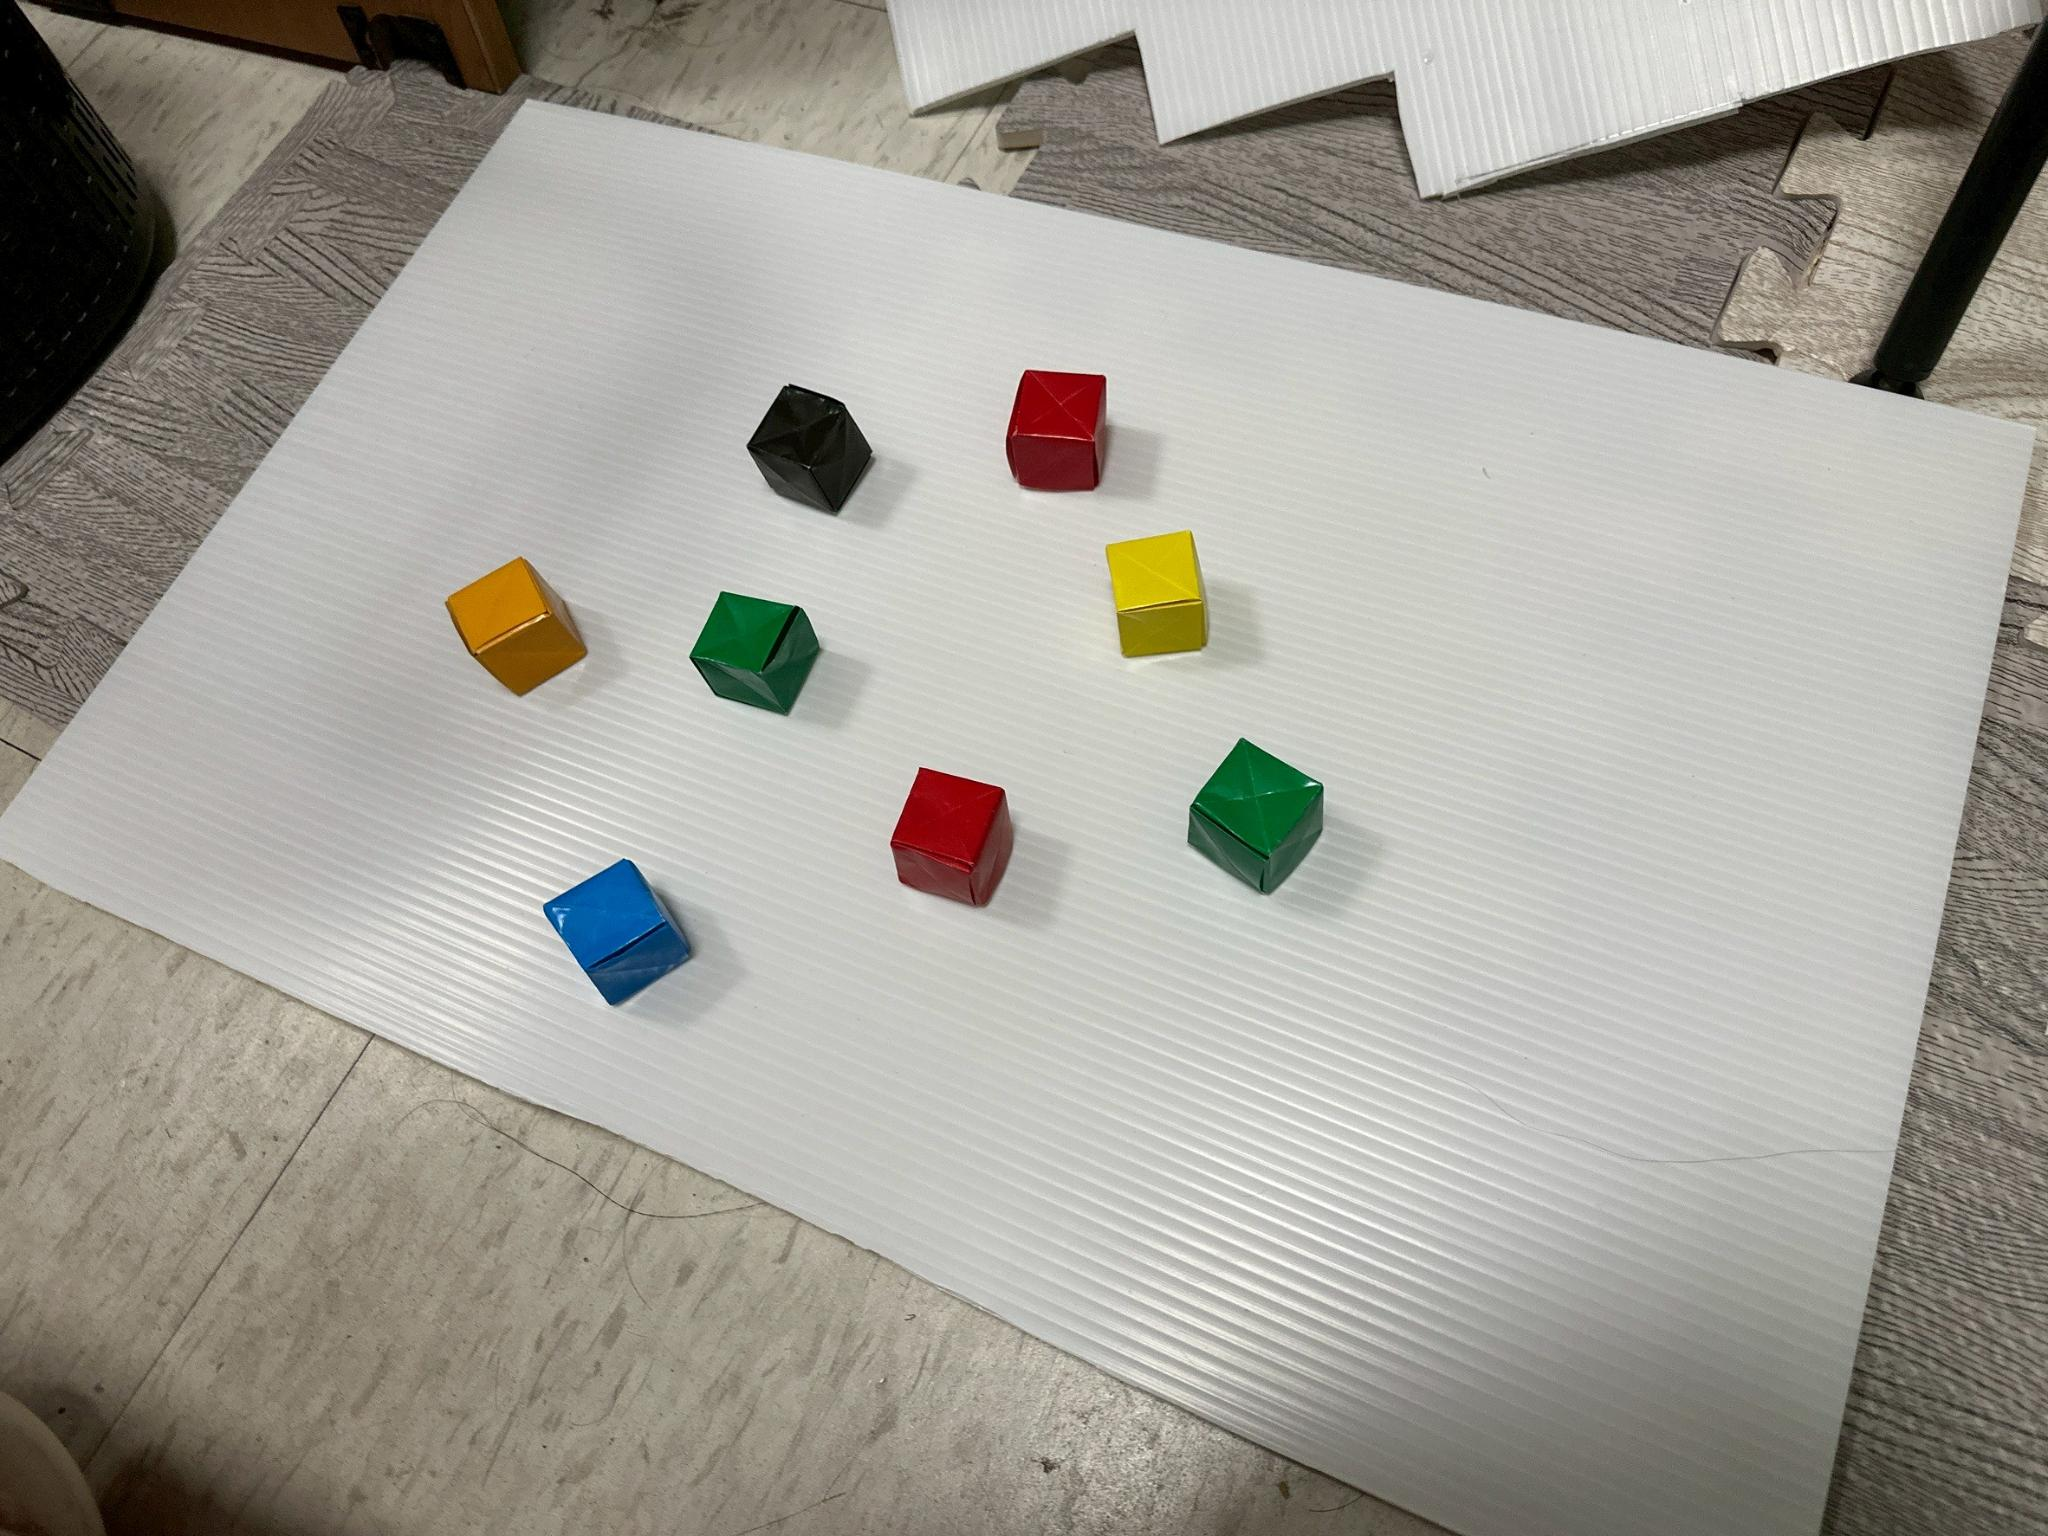cube: (543, 860, 689, 1005), (1188, 739, 1324, 894), (447, 558, 585, 694), (892, 768, 1013, 907), (747, 384, 871, 513), (692, 592, 819, 713), (1106, 532, 1206, 657), (1006, 369, 1108, 490)
